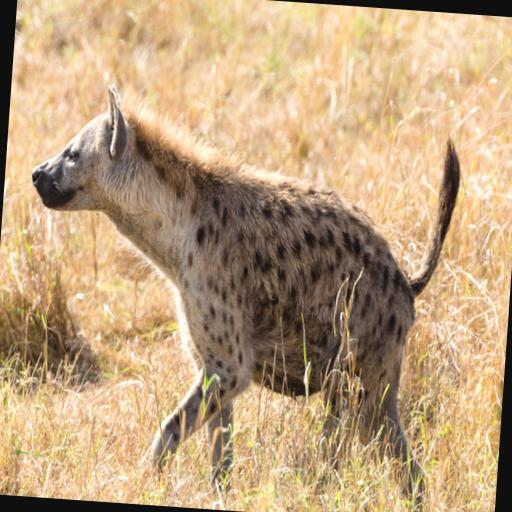hyenas: (2, 52, 493, 512)
